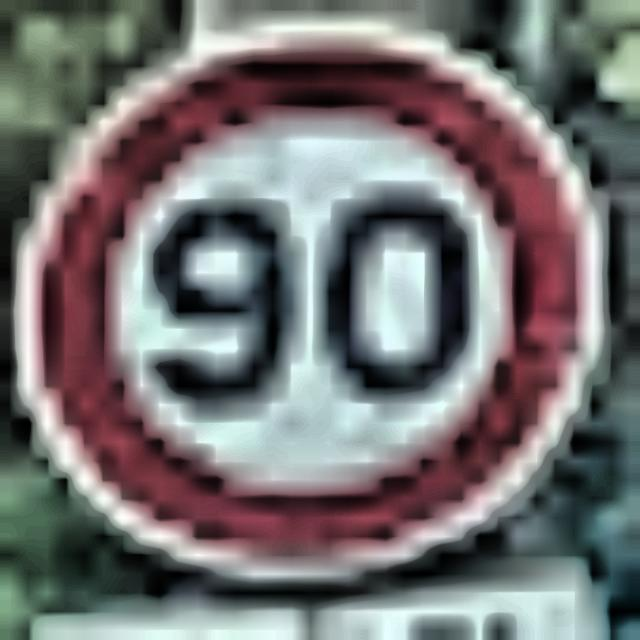speed_90: (1, 9, 622, 622)
